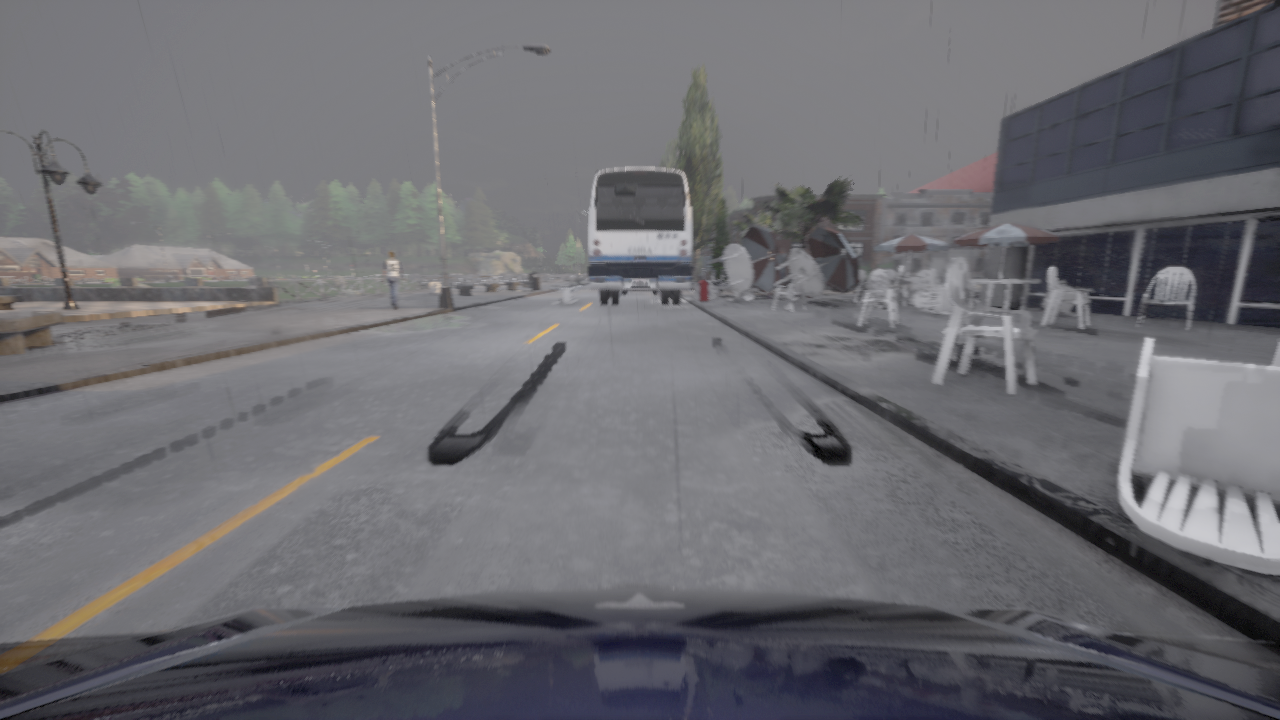cyclist: (0, 584, 1279, 719), (588, 167, 691, 305), (621, 292, 657, 296)
pedestrian: (382, 251, 403, 308)
